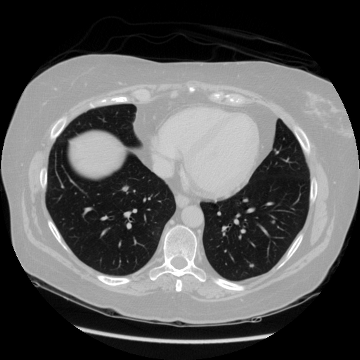nodule: (121, 184, 129, 192)
